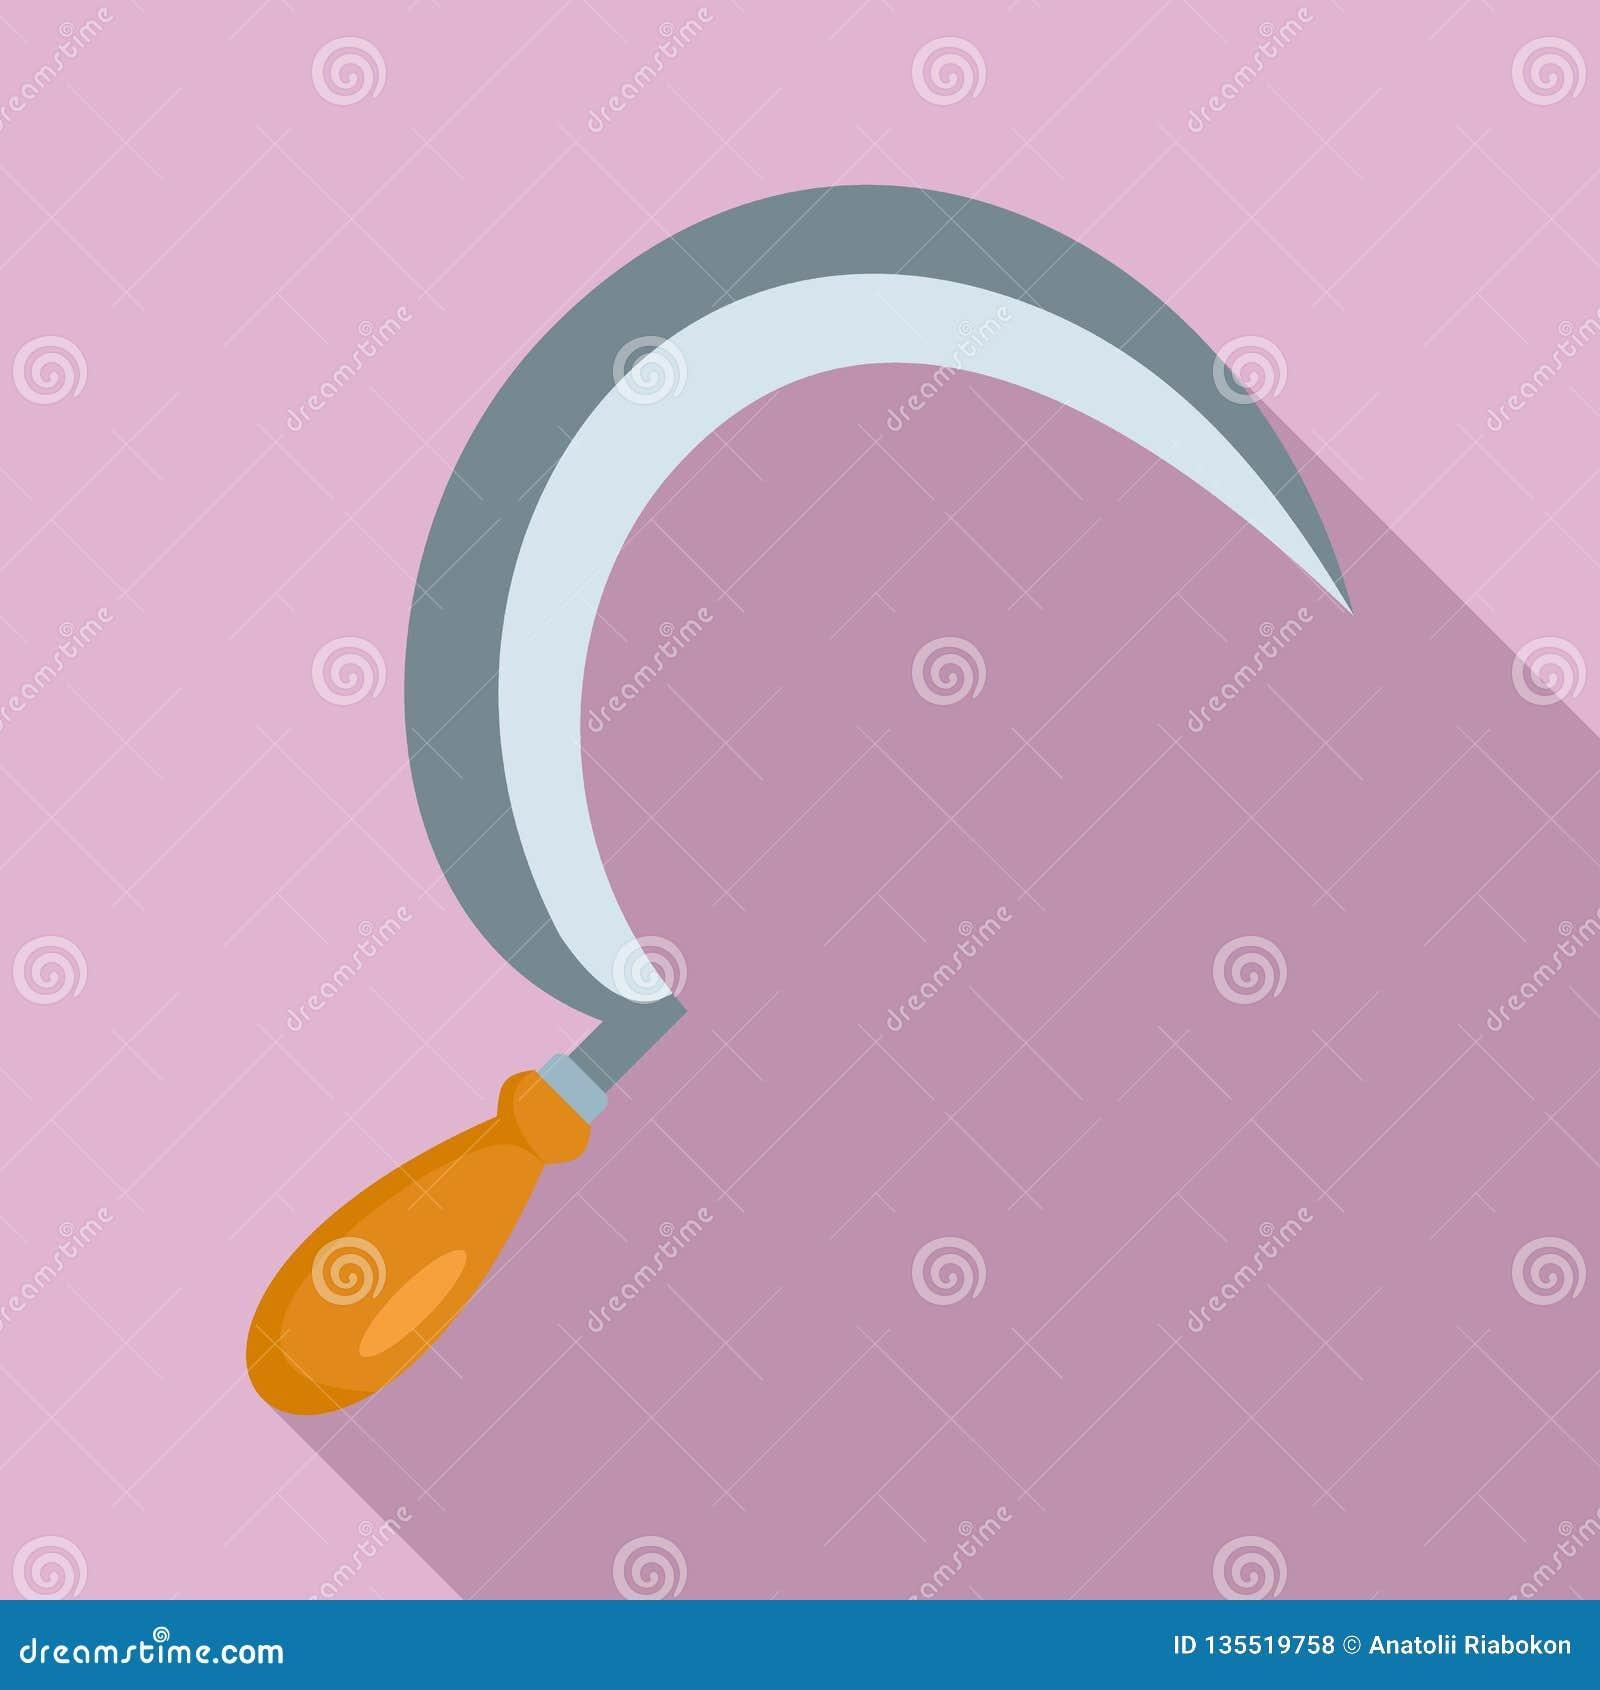foice: (247, 186, 1347, 1415)
